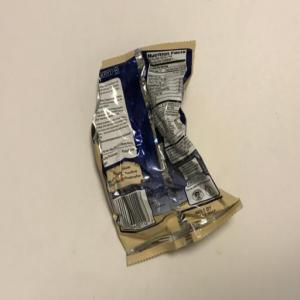Trash: (91, 40, 244, 268)
